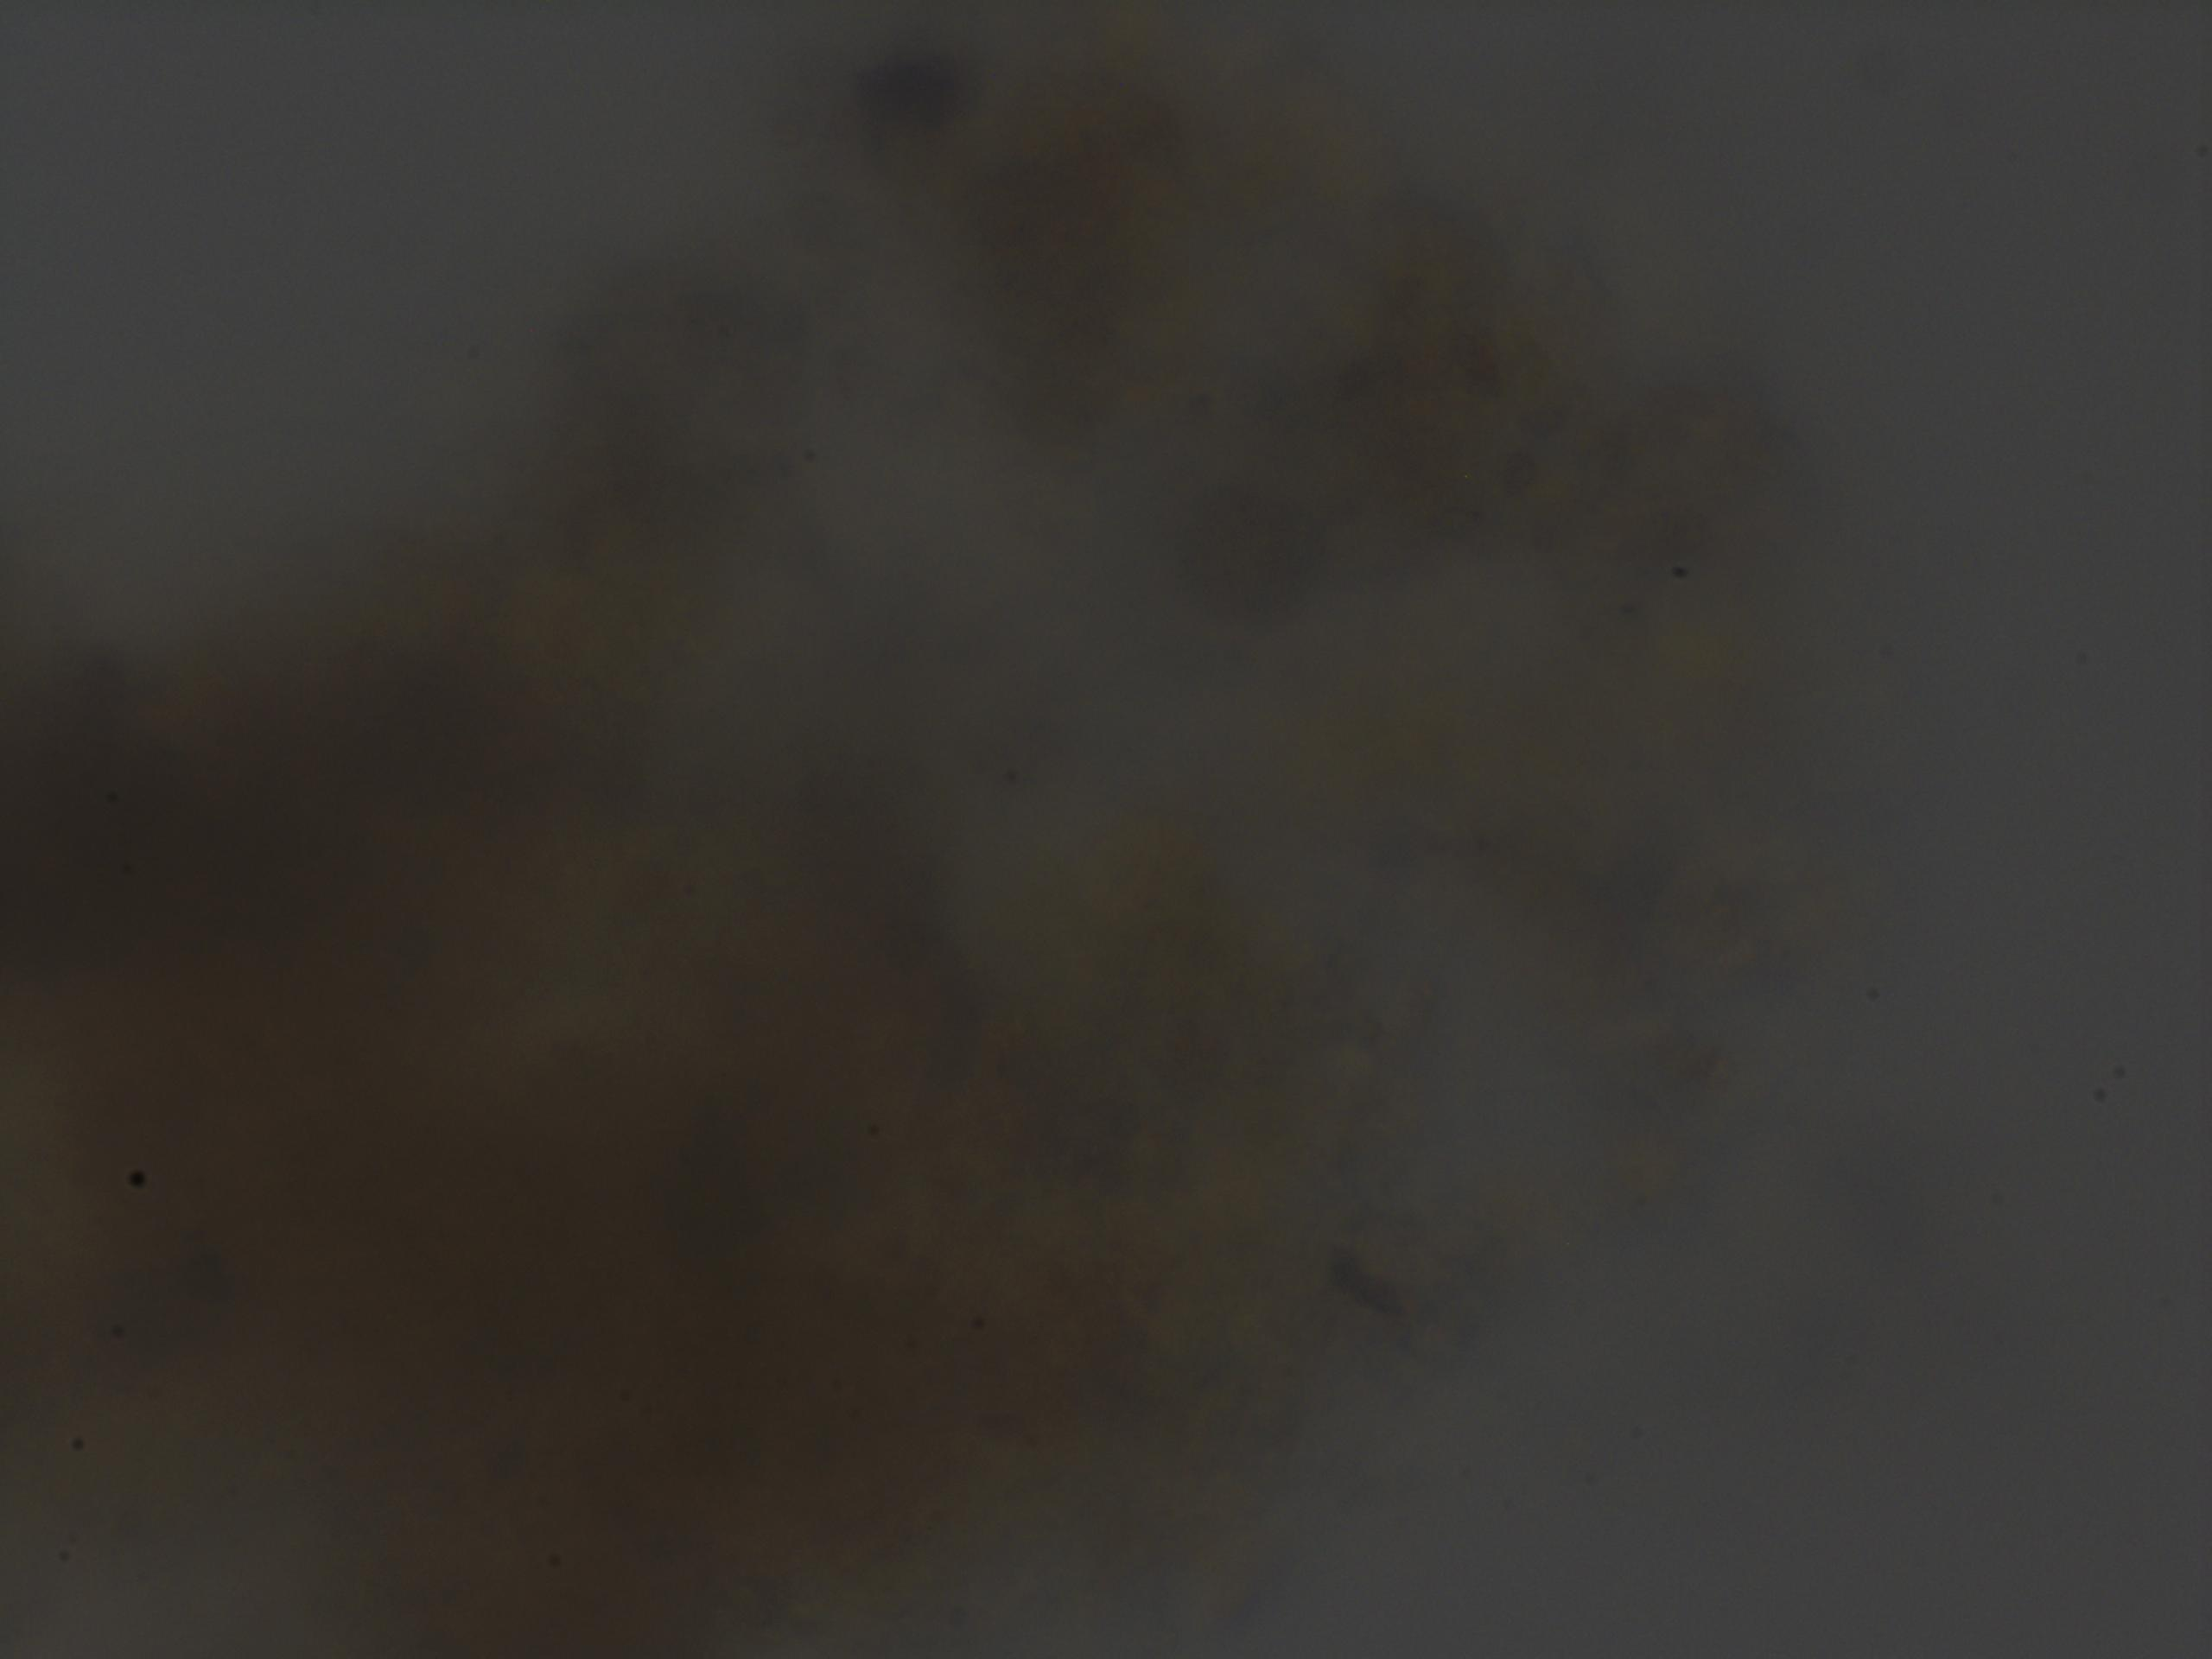open_floc: (0, 0, 1946, 1659)
